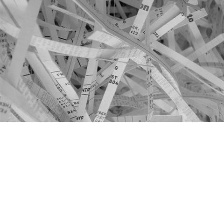book: (0, 0, 224, 123)
